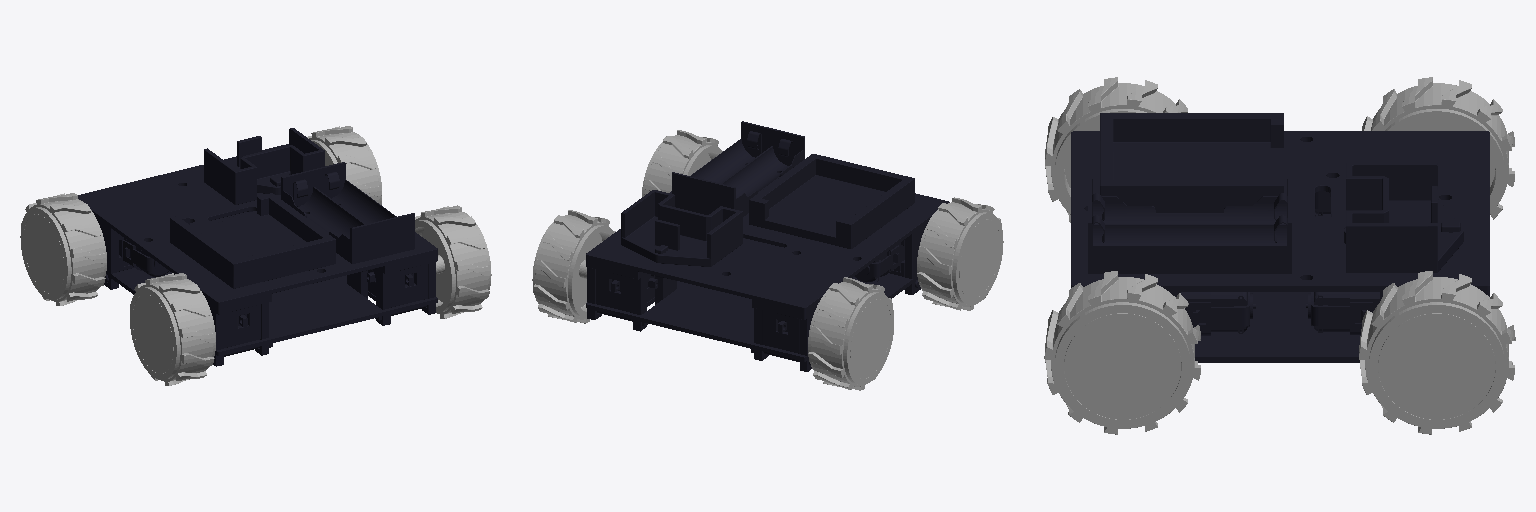
robot.urdf — ground_rover:
<?xml version="1.0"?>
<robot name="ground_rover">

    <material name="grey">
        <color rgba="0.7 0.7 0.7 1" />
    </material>

    <material name="blue">
        <color rgba="0.15 0.15 0.2 1" />
    </material>

    <material name="white">
        <color rgba="1 1 1 1" />
    </material>

    <link name="base_footprint" />

    <link name="base_link">
        <inertial>
            <origin xyz="0.001 -0.003 -0.012" rpy="0 0 0" />
            <mass value="0.399" />
            <inertia ixx="0.001" ixy="-0.00" ixz="-0.00" iyy="0.001" iyz="0.00" izz="0.002" />
        </inertial>
        <visual>
            <geometry>
                <mesh filename="package://ground_rover/src/meshes/Base_Assembly.dae" />
            </geometry>
            <origin xyz="0 0 0.02" rpy="0 0 0" />
            <material name="blue" />
        </visual>
        <collision>
            <geometry>
                <box size="0.14 0.16 0.04" />
            </geometry>
            <origin xyz="0 0 0" rpy="0 0 0" />
        </collision>
    </link>

    <link name="left_back_wheel_link">
        <inertial>
            <origin xyz="-0.00 -0.002 0.00" rpy="0 0 0" />
            <mass value="0.062" />
            <inertia ixx="0.00" ixy="0.00" ixz="0.00" iyy="0.00" iyz="0.00" izz="0.00" />
        </inertial>
        <visual>
            <geometry>
                <mesh filename="package://ground_rover/src/meshes/Wheel_Copy.dae" />
            </geometry>
            <origin xyz="0 0 0" rpy="0 0 0" />
            <material name="grey" />
        </visual>
        <collision>
            <geometry>
                <cylinder radius="0.03" length="0.025" />
            </geometry>
            <origin xyz="0 0 0" rpy="1.57 0 0" />
        </collision>
    </link>

    <link name="left_front_wheel_link">
        <inertial>
            <origin xyz="-0.00 -0.002 0.00" rpy="0 0 0" />
            <mass value="0.062" />
            <inertia ixx="0.00" ixy="0.00" ixz="0.00" iyy="0.00" iyz="0.00" izz="0.00" />
        </inertial>
        <visual>
            <geometry>
                <mesh filename="package://ground_rover/src/meshes/Wheel_Copy.dae" />
            </geometry>
            <origin xyz="0 0 0" rpy="0 0 0" />
            <material name="grey" />
        </visual>
        <collision>
            <geometry>
                <cylinder radius="0.03" length="0.025" />
            </geometry>
            <origin xyz="0 0 0" rpy="1.57 0 0" />
        </collision>
    </link>

    <link name="right_back_wheel_link">
        <inertial>
            <origin xyz="-0.00 -0.002 0.00" rpy="0 0 0" />
            <mass value="0.062" />
            <inertia ixx="0.00" ixy="0.00" ixz="0.00" iyy="0.00" iyz="0.00" izz="0.00" />
        </inertial>
        <visual>
            <geometry>
                <mesh filename="package://ground_rover/src/meshes/Wheel_Copy.dae" />
            </geometry>
            <origin xyz="0 0 0" rpy="0 0 3.14" />
            <material name="grey" />
        </visual>
        <collision>
            <geometry>
                <cylinder radius="0.03" length="0.025" />
            </geometry>
            <origin xyz="0 0 0" rpy="1.57 0 0" />
        </collision>
    </link>

    <link name="right_front_wheel_link">
        <inertial>
            <origin xyz="-0.00 -0.002 0.00" rpy="0 0 0" />
            <mass value="0.062" />
            <inertia ixx="0.00" ixy="0.00" ixz="0.00" iyy="0.00" iyz="0.00" izz="0.00" />
        </inertial>
        <visual>
            <geometry>
                <mesh filename="package://ground_rover/src/meshes/Wheel_Copy.dae" />
            </geometry>
            <origin xyz="0 0 0" rpy="0 0 3.14" />
            <material name="grey" />
        </visual>
        <collision>
            <geometry>
                <cylinder radius="0.03" length="0.025" />
            </geometry>
            <origin xyz="0 0 0" rpy="1.57 0 0" />
        </collision>
    </link>

    <joint name="base_joint" type="fixed" >
        <parent link="base_footprint" />
        <child link="base_link" />
        <origin xyz="0 0 0.025" rpy="0 0 0" />
    </joint>

    <joint name="base_left_front_wheel_joint" type="continuous">
        <parent link="base_link" />
        <child link="left_front_wheel_link" />
        <origin xyz="-0.0875 0.06 0" rpy="0 0 1.57" />
        <axis xyz="0 1 0" />
    </joint>

    <joint name="base_right_front_wheel_joint" type="continuous">
        <parent link="base_link" />
        <child link="right_front_wheel_link" />
        <origin xyz="0.0875 0.06 0" rpy="0 0 1.57" />
        <axis xyz="0 1 0" />
    </joint>

    <joint name="base_left_back_wheel_joint" type="continuous">
        <parent link="base_link" />
        <child link="left_back_wheel_link" />
        <origin xyz="-0.0875 -0.06 0" rpy="0 0 1.57" />
        <axis xyz="0 1 0" />
    </joint>

    <joint name="base_right_back_wheel_joint" type="continuous">
        <parent link="base_link" />
        <child link="right_back_wheel_link" />
        <origin xyz="0.0875 -0.06 0" rpy="0 0 1.57" />
        <axis xyz="0 1 0" />
    </joint>
    
</robot>

--- Render facts (derived) ---
3 views of the same robot in one strip: view 1: azimuth 30°, elevation 25°; view 2: azimuth 150°, elevation 25°; view 3: azimuth 270°, elevation 25° (orthographic).
Model ground_rover with 6 links and 5 joints (4 continuous, 1 fixed), rooted at base_footprint, posed all joints at 0.
Visible links, largest first — view 1: base_link, left_front_wheel_link, left_back_wheel_link, right_back_wheel_link, right_front_wheel_link; view 2: base_link, left_back_wheel_link, left_front_wheel_link, right_front_wheel_link, right_back_wheel_link; view 3: base_link, right_front_wheel_link, right_back_wheel_link, left_front_wheel_link, left_back_wheel_link.
Boxes of the visible links, x1=… form: base_link: x1=78, y1=128, x2=437, y2=366; left_front_wheel_link: x1=20, y1=193, x2=106, y2=305; left_back_wheel_link: x1=130, y1=273, x2=215, y2=385; right_back_wheel_link: x1=415, y1=205, x2=491, y2=318; right_front_wheel_link: x1=307, y1=126, x2=381, y2=204; base_link: x1=586, y1=121, x2=949, y2=371; left_back_wheel_link: x1=917, y1=197, x2=1003, y2=310; left_front_wheel_link: x1=808, y1=277, x2=893, y2=390; right_front_wheel_link: x1=532, y1=210, x2=615, y2=323; right_back_wheel_link: x1=642, y1=130, x2=722, y2=196; base_link: x1=1071, y1=113, x2=1489, y2=362; right_front_wheel_link: x1=1359, y1=271, x2=1515, y2=434; right_back_wheel_link: x1=1044, y1=271, x2=1200, y2=434; left_front_wheel_link: x1=1362, y1=77, x2=1514, y2=219; left_back_wheel_link: x1=1045, y1=77, x2=1187, y2=222.
Bounding box of the posed robot: 0.2001 × 0.1799 × 0.0714 m (x, y, z).
5 mesh visuals loaded from 2 distinct referenced files (2 Collada DAE).